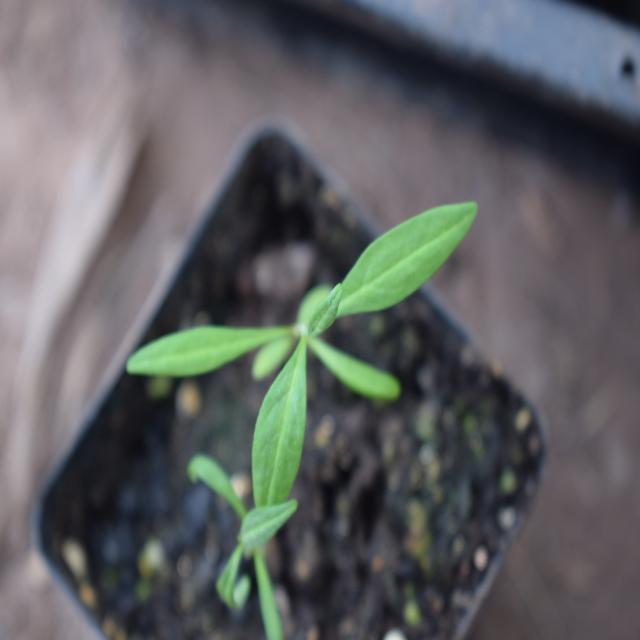white_smart_weed: (101, 168, 481, 480)
